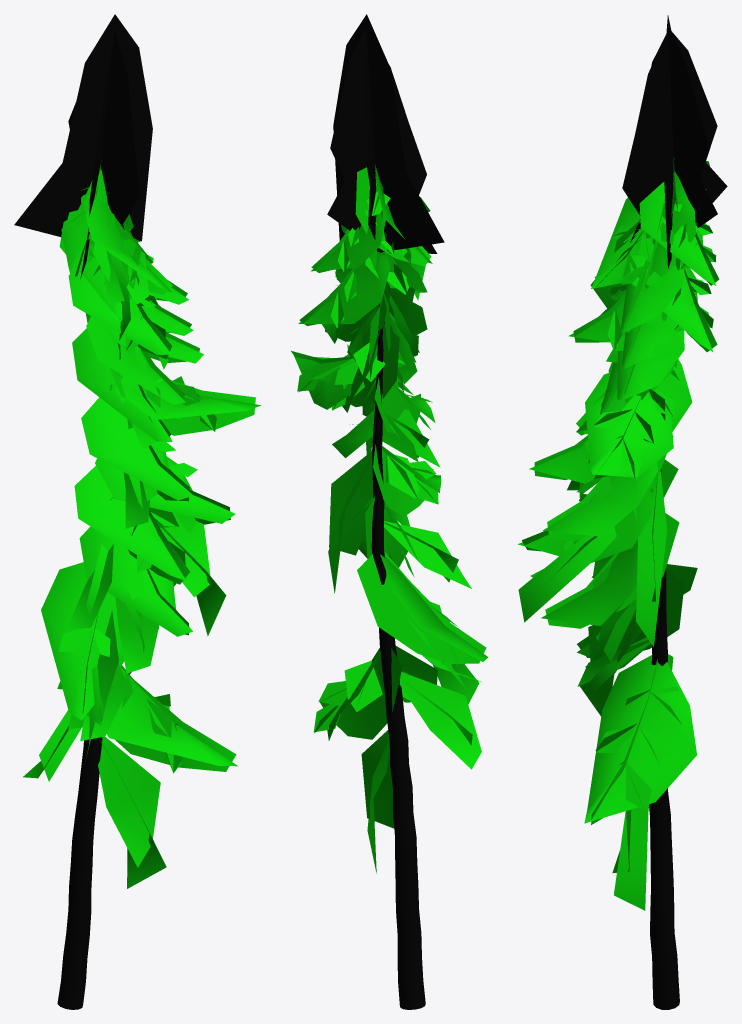
Rendered from pine_004_clump01_B.FBX.
3 views of the same model, side by side, from view 1: azimuth 30°, elevation 25°; view 2: azimuth 150°, elevation 25°; view 3: azimuth 270°, elevation 25° (orthographic). The views are drawn at different scales.
Parts seen in each view (by area): view 1: pine_004_clump01_B_LOD0; view 2: pine_004_clump01_B_LOD0; view 3: pine_004_clump01_B_LOD0.
Boxes of the visible parts, x1,y1,x2,y2 form: pine_004_clump01_B_LOD0: (14,14,260,1009); pine_004_clump01_B_LOD0: (291,14,488,1009); pine_004_clump01_B_LOD0: (518,15,727,1009).
Size of what is drawn, in the model's own units: 383 by 1715 by 323.
